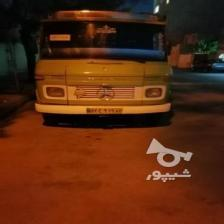plate: (85, 107, 122, 113)
